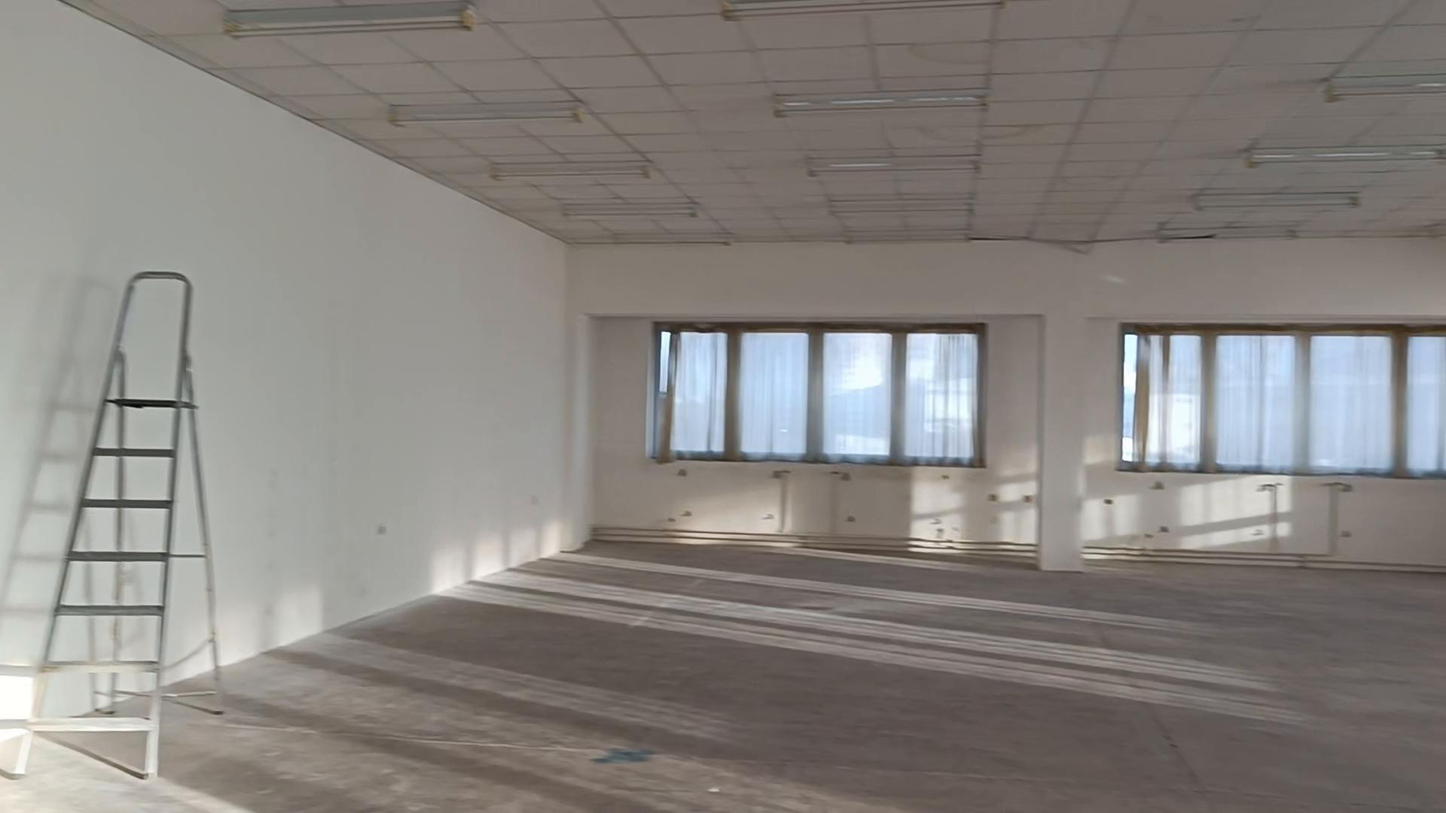ceiling: (64, 0, 1445, 245)
floor: (0, 543, 1445, 812)
wall: (0, 0, 1445, 665)
